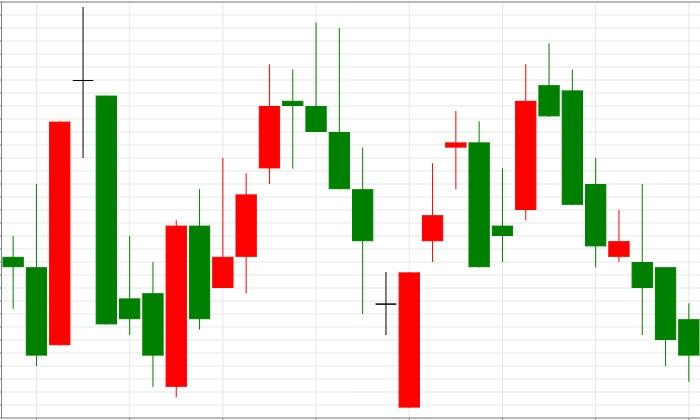bullish_engulfing_rise: (72, 6, 187, 398)
evening_star_fall: (165, 23, 327, 399)
three_black_crows_fall: (165, 23, 374, 399)
